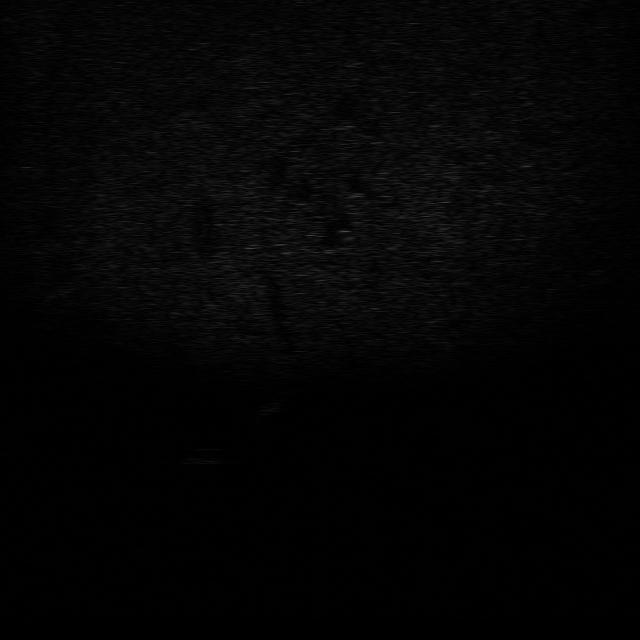ball: (184, 444, 228, 468)
human body: (251, 389, 290, 429)
